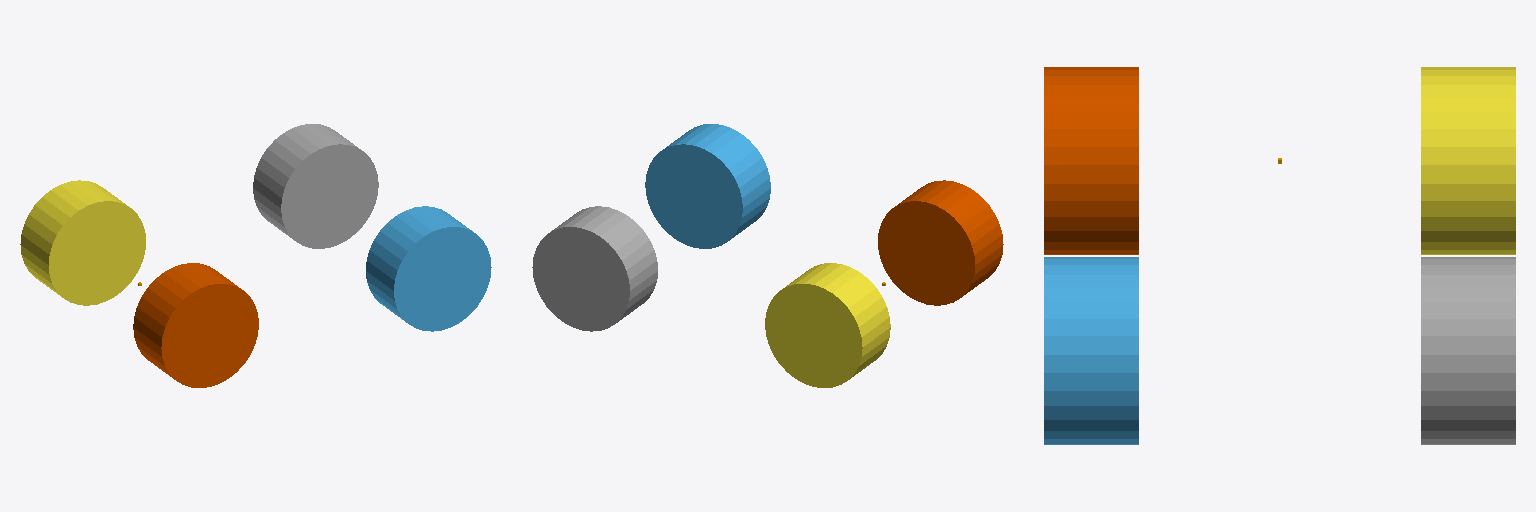
The robot description file, URDF, robot "car":
<?xml version="1.0" ?>
<!-- =================================================================================== -->
<!-- |    This document was autogenerated by xacro from car.xacro                      | -->
<!-- |    EDITING THIS FILE BY HAND IS NOT RECOMMENDED                                 | -->
<!-- =================================================================================== -->
<robot name="car">
  <gazebo reference="chassis">
    <material>CarMaterial</material>
  </gazebo>
  <link name="base_link">
    <parent link="odom"/>
    <visual>
      <geometry>
        <box size="0.01 0.01 0.01"/>
      </geometry>
      <material name="chassis_mat"/>
    </visual>
  </link>
  <joint name="base_link_to_chassis" type="fixed">
    <origin rpy="0 0 0" xyz="0.476 0 0.3"/>
    <parent link="base_link"/>
    <child link="chassis"/>
  </joint>
  <link name="chassis">
    <collision>
      <origin rpy="0 0 0" xyz="0 0 0.27"/>
      <geometry>
        <box size="1.56 0.4 0.39999999999999997"/>
      </geometry>
    </collision>
    <visual>
      <origin rpy="0 0 0" xyz="0 0 0"/>
      <geometry>
        <mesh filename="file://[local-path]/Desktop/II_last_semester/Laba_2/meshes/car.dae"/>
      </geometry>
    </visual>
    <inertial>
      <mass value="0.001"/>
      <inertia ixx="0.001" ixy="0" ixz="0" iyy="0.001" iyz="0" izz="0.001"/>
    </inertial>
  </link>
  <joint name="front_left_steering_knuckle_joint" type="revolute">
    <origin rpy="0 0 1.5707963267948966" xyz="0.47600000000000003 0.4 -0.3"/>
    <parent link="chassis"/>
    <child link="front_left_steering_knuckle_link"/>
    <axis xyz="0 0 1"/>
    <limit effort="1.25" lower="-0.5" upper="0.5" velocity="2.0"/>
  </joint>
  <transmission name="front_left_wheel_steering">
    <type>transmission_interface/SimpleTransmission</type>
    <joint name="front_left_steering_knuckle_joint">
      <hardwareInterface>PositionJointInterface</hardwareInterface>
    </joint>
    <actuator name="front_left_wheel_steering_act">
      <hardwareInterface>hardware_interface/PositionJointInterface</hardwareInterface>
    </actuator>
  </transmission>
  <link name="front_left_steering_knuckle_link">
    <visual>
      <origin rpy="0 0 0" xyz="0 0 0"/>
      <geometry>
        <sphere radius="0.01"/>
      </geometry>
      <material name="white"/>
    </visual>
    <inertial>
      <mass value="0.001"/>
      <inertia ixx="0.001" ixy="0" ixz="0" iyy="0.001" iyz="0" izz="0.001"/>
    </inertial>
  </link>
  <joint name="front_right_steering_knuckle_joint" type="revolute">
    <origin rpy="0 0 1.5707963267948966" xyz="0.47600000000000003 -0.4 -0.3"/>
    <parent link="chassis"/>
    <child link="front_right_steering_knuckle_link"/>
    <axis xyz="0 0 1"/>
    <limit effort="1.25" lower="-0.5" upper="0.5" velocity="2.0"/>
  </joint>
  <transmission name="front_right_wheel_steering">
    <type>transmission_interface/SimpleTransmission</type>
    <joint name="front_right_steering_knuckle_joint">
      <hardwareInterface>PositionJointInterface</hardwareInterface>
    </joint>
    <actuator name="front_right_wheel_steering_act">
      <hardwareInterface>hardware_interface/PositionJointInterface</hardwareInterface>
    </actuator>
  </transmission>
  <link name="front_right_steering_knuckle_link">
    <visual>
      <origin rpy="0 0 0" xyz="0 0 0"/>
      <geometry>
        <sphere radius="0.01"/>
      </geometry>
      <material name="white"/>
    </visual>
    <inertial>
      <mass value="0.001"/>
      <inertia ixx="0.001" ixy="0" ixz="0" iyy="0.001" iyz="0" izz="0.001"/>
    </inertial>
  </link>
  <joint name="rear_left_steering_knuckle_joint" type="fixed">
    <origin rpy="0 0 1.5707963267948966" xyz="-0.47600000000000003 0.4 -0.3"/>
    <parent link="chassis"/>
    <child link="rear_left_steering_knuckle_link"/>
  </joint>
  <link name="rear_left_steering_knuckle_link">
    <visual>
      <origin rpy="0 0 0" xyz="0 0 0"/>
      <geometry>
        <sphere radius="0.01"/>
      </geometry>
      <material name="white"/>
    </visual>
    <inertial>
      <mass value="0.001"/>
      <inertia ixx="0.001" ixy="0" ixz="0" iyy="0.001" iyz="0" izz="0.001"/>
    </inertial>
  </link>
  <joint name="rear_right_steering_knuckle_joint" type="fixed">
    <origin rpy="0 0 1.5707963267948966" xyz="-0.47600000000000003 -0.4 -0.3"/>
    <parent link="chassis"/>
    <child link="rear_right_steering_knuckle_link"/>
  </joint>
  <link name="rear_right_steering_knuckle_link">
    <visual>
      <origin rpy="0 0 0" xyz="0 0 0"/>
      <geometry>
        <sphere radius="0.01"/>
      </geometry>
      <material name="white"/>
    </visual>
    <inertial>
      <mass value="0.001"/>
      <inertia ixx="0.001" ixy="0" ixz="0" iyy="0.001" iyz="0" izz="0.001"/>
    </inertial>
  </link>
  <joint name="front_left_axel_joint" type="fixed">
    <origin rpy="0 0 0" xyz="0 0 0"/>
    <parent link="front_left_steering_knuckle_link"/>
    <child link="front_left_wheel_axel"/>
  </joint>
  <link name="front_left_wheel_axel">
    <visual>
      <origin rpy="0 0 0" xyz="0 0 0"/>
      <geometry>
        <sphere radius="0.01"/>
      </geometry>
      <material name="white"/>
    </visual>
    <inertial>
      <mass value="0.001"/>
      <inertia ixx="0.001" ixy="0" ixz="0" iyy="0.001" iyz="0" izz="0.001"/>
    </inertial>
  </link>
  <joint name="front_left_wheel_joint" type="continuous">
    <origin rpy="0 0 0" xyz="0 0 0"/>
    <parent link="front_left_wheel_axel"/>
    <child link="front_left_wheel_link"/>
    <axis xyz="1 0 0"/>
    <limit effort="100000.0" velocity="255.0"/>
  </joint>
  <transmission name="front_left_wheel_vel">
    <type>transmission_interface/SimpleTransmission</type>
    <joint name="front_left_wheel_joint">
      <hardwareInterface>VelocityJointInterface</hardwareInterface>
    </joint>
    <actuator name="front_left_wheel_vel_act">
      <hardwareInterface>hardware_interface/VelocityJointInterface</hardwareInterface>
    </actuator>
  </transmission>
  <link name="front_left_wheel_link">
    <collision>
      <origin rpy="0 1.5707963267948966 0" xyz="0 0 0"/>
      <geometry>
        <cylinder length="0.2" radius="0.2"/>
      </geometry>
    </collision>
    <visual>
      <origin rpy="0 1.5707963267948966 0" xyz="0 0 0"/>
      <geometry>
        <cylinder length="0.2" radius="0.2"/>
      </geometry>
    </visual>
    <inertial>
      <origin rpy="0 0 0" xyz="0 0 0"/>
      <mass value="2.0"/>
      <inertia ixx="0.04000000000000001" ixy="0" ixz="0" iyy="0.026666666666666672" iyz="0" izz="0.026666666666666672"/>
    </inertial>
  </link>
  <joint name="front_right_axel_joint" type="fixed">
    <origin rpy="0 0 0" xyz="0 0 0"/>
    <parent link="front_right_steering_knuckle_link"/>
    <child link="front_right_wheel_axel"/>
  </joint>
  <link name="front_right_wheel_axel">
    <visual>
      <origin rpy="0 0 0" xyz="0 0 0"/>
      <geometry>
        <sphere radius="0.01"/>
      </geometry>
      <material name="white"/>
    </visual>
    <inertial>
      <mass value="0.001"/>
      <inertia ixx="0.001" ixy="0" ixz="0" iyy="0.001" iyz="0" izz="0.001"/>
    </inertial>
  </link>
  <joint name="front_right_wheel_joint" type="continuous">
    <origin rpy="0 0 0" xyz="0 0 0"/>
    <parent link="front_right_wheel_axel"/>
    <child link="front_right_wheel_link"/>
    <axis xyz="1 0 0"/>
    <limit effort="100000.0" velocity="255.0"/>
  </joint>
  <transmission name="front_right_wheel_vel">
    <type>transmission_interface/SimpleTransmission</type>
    <joint name="front_right_wheel_joint">
      <hardwareInterface>VelocityJointInterface</hardwareInterface>
    </joint>
    <actuator name="front_right_wheel_vel_act">
      <hardwareInterface>hardware_interface/VelocityJointInterface</hardwareInterface>
    </actuator>
  </transmission>
  <link name="front_right_wheel_link">
    <collision>
      <origin rpy="0 1.5707963267948966 0" xyz="0 0 0"/>
      <geometry>
        <cylinder length="0.2" radius="0.2"/>
      </geometry>
    </collision>
    <visual>
      <origin rpy="0 1.5707963267948966 0" xyz="0 0 0"/>
      <geometry>
        <cylinder length="0.2" radius="0.2"/>
      </geometry>
    </visual>
    <inertial>
      <origin rpy="0 0 0" xyz="0 0 0"/>
      <mass value="2.0"/>
      <inertia ixx="0.04000000000000001" ixy="0" ixz="0" iyy="0.026666666666666672" iyz="0" izz="0.026666666666666672"/>
    </inertial>
  </link>
  <joint name="rear_left_axel_joint" type="fixed">
    <origin rpy="0 0 0" xyz="0 0 0"/>
    <parent link="rear_left_steering_knuckle_link"/>
    <child link="rear_left_wheel_axel"/>
  </joint>
  <link name="rear_left_wheel_axel">
    <visual>
      <origin rpy="0 0 0" xyz="0 0 0"/>
      <geometry>
        <sphere radius="0.01"/>
      </geometry>
      <material name="white"/>
    </visual>
    <inertial>
      <mass value="0.001"/>
      <inertia ixx="0.001" ixy="0" ixz="0" iyy="0.001" iyz="0" izz="0.001"/>
    </inertial>
  </link>
  <joint name="rear_left_wheel_joint" type="continuous">
    <origin rpy="0 0 0" xyz="0 0 0"/>
    <parent link="rear_left_wheel_axel"/>
    <child link="rear_left_wheel_link"/>
    <axis xyz="1 0 0"/>
    <limit effort="100000.0" velocity="255.0"/>
  </joint>
  <link name="rear_left_wheel_link">
    <collision>
      <origin rpy="0 1.5707963267948966 0" xyz="0 0 0"/>
      <geometry>
        <cylinder length="0.2" radius="0.2"/>
      </geometry>
    </collision>
    <visual>
      <origin rpy="0 1.5707963267948966 0" xyz="0 0 0"/>
      <geometry>
        <cylinder length="0.2" radius="0.2"/>
      </geometry>
    </visual>
    <inertial>
      <origin rpy="0 0 0" xyz="0 0 0"/>
      <mass value="2.0"/>
      <inertia ixx="0.04000000000000001" ixy="0" ixz="0" iyy="0.026666666666666672" iyz="0" izz="0.026666666666666672"/>
    </inertial>
  </link>
  <joint name="rear_right_axel_joint" type="fixed">
    <origin rpy="0 0 0" xyz="0 0 0"/>
    <parent link="rear_right_steering_knuckle_link"/>
    <child link="rear_right_wheel_axel"/>
  </joint>
  <link name="rear_right_wheel_axel">
    <visual>
      <origin rpy="0 0 0" xyz="0 0 0"/>
      <geometry>
        <sphere radius="0.01"/>
      </geometry>
      <material name="white"/>
    </visual>
    <inertial>
      <mass value="0.001"/>
      <inertia ixx="0.001" ixy="0" ixz="0" iyy="0.001" iyz="0" izz="0.001"/>
    </inertial>
  </link>
  <joint name="rear_right_wheel_joint" type="continuous">
    <origin rpy="0 0 0" xyz="0 0 0"/>
    <parent link="rear_right_wheel_axel"/>
    <child link="rear_right_wheel_link"/>
    <axis xyz="1 0 0"/>
    <limit effort="100000.0" velocity="255.0"/>
  </joint>
  <link name="rear_right_wheel_link">
    <collision>
      <origin rpy="0 1.5707963267948966 0" xyz="0 0 0"/>
      <geometry>
        <cylinder length="0.2" radius="0.2"/>
      </geometry>
    </collision>
    <visual>
      <origin rpy="0 1.5707963267948966 0" xyz="0 0 0"/>
      <geometry>
        <cylinder length="0.2" radius="0.2"/>
      </geometry>
    </visual>
    <inertial>
      <origin rpy="0 0 0" xyz="0 0 0"/>
      <mass value="2.0"/>
      <inertia ixx="0.04000000000000001" ixy="0" ixz="0" iyy="0.026666666666666672" iyz="0" izz="0.026666666666666672"/>
    </inertial>
  </link>
  <gazebo>
    <plugin filename="libgazebo_ros_control.so" name="gazebo_ros_control"/>
  </gazebo>
  <joint name="hokuyo_joint" type="fixed">
    <axis xyz="0 0 0"/>
    <origin rpy="0 0 0" xyz="0.574 0 0.72"/>
    <parent link="base_link"/>
    <child link="hokuyo"/>
  </joint>
  <!-- Hokuyo Laser -->
  <link name="hokuyo">
    <collision>
      <origin rpy="0 0 0" xyz="0 0 0"/>
      <geometry>
        <box size="0.1 0.1 0.1"/>
      </geometry>
    </collision>
    <visual>
      <origin rpy="0 0 0" xyz="0 0 0"/>
      <geometry>
        <mesh filename="file://[local-path]/Desktop/II_last_semester/Laba_2/meshes/hokuyo.dae"/>
      </geometry>
    </visual>
    <inertial>
      <mass value="1e-5"/>
      <origin rpy="0 0 0" xyz="0 0 0"/>
      <inertia ixx="1e-6" ixy="0" ixz="0" iyy="1e-6" iyz="0" izz="1e-6"/>
    </inertial>
  </link>
  <!-- hokuyo -->
  <gazebo reference="hokuyo">
    <sensor name="head_hokuyo_sensor" type="gpu_ray">
      <pose>0 0 0 0 0 0</pose>
      <visualize>false</visualize>
      <update_rate>40</update_rate>
      <ray>
        <scan>
          <horizontal>
            <samples>1080</samples>
            <resolution>1</resolution>
            <min_angle>-2,35619</min_angle>
            <max_angle>2,35619</max_angle>
          </horizontal>
        </scan>
        <range>
          <min>0.1</min>
          <max>30.0</max>
          <resolution>0.005</resolution>
        </range>
        <noise>
          <type>gaussian</type>
          <!-- Noise parameters based on published spec for Hokuyo laser
               achieving "+-30mm" accuracy at range < 10m.  A mean of 0.0m and
               stddev of 0.01m will put 99.7% of samples within 0.03m of the true
               reading. -->
          <mean>0.0</mean>
          <stddev>0.01</stddev>
        </noise>
      </ray>
      <plugin filename="libgazebo_ros_gpu_laser.so" name="gazebo_ros_head_hokuyo_controller">
        <topicName>/scan</topicName>
        <frameName>hokuyo</frameName>
      </plugin>
    </sensor>
  </gazebo>
  <gazebo>
    <plugin filename="libgazebo_ros_p3d.so" name="publisher_fake_odom">
      <updateRate>100.0</updateRate>
      <bodyName>base_link</bodyName>
      <topicName>odom_truth</topicName>
      <gaussianNoise>0.0</gaussianNoise>
      <frameName>map</frameName>
    </plugin>
  </gazebo>
</robot>

--- Render facts (derived) ---
Views: 3 orthographic renders of the robot side by side, from view 1: azimuth 30°, elevation 25°; view 2: azimuth 150°, elevation 25°; view 3: azimuth 270°, elevation 25°.
Model car with 15 links and 14 joints (2 revolute, 4 continuous, 8 fixed), rooted at base_link, posed all joints at 0.
Visible links, largest first — view 1: front_left_wheel_link, rear_right_wheel_link, front_right_wheel_link, rear_left_wheel_link; view 2: front_right_wheel_link, rear_left_wheel_link, front_left_wheel_link, rear_right_wheel_link; view 3: front_left_wheel_link, front_right_wheel_link, rear_left_wheel_link, rear_right_wheel_link.
Link boxes in pixels (x1,y1,x2,y2): front_left_wheel_link: (253, 124, 378, 248); rear_right_wheel_link: (133, 263, 258, 387); front_right_wheel_link: (366, 206, 491, 331); rear_left_wheel_link: (20, 180, 145, 305); front_right_wheel_link: (645, 124, 770, 248); rear_left_wheel_link: (765, 263, 890, 387); front_left_wheel_link: (532, 206, 657, 331); rear_right_wheel_link: (878, 180, 1003, 305); front_left_wheel_link: (1421, 257, 1515, 444); front_right_wheel_link: (1044, 257, 1138, 444); rear_left_wheel_link: (1421, 67, 1515, 254); rear_right_wheel_link: (1044, 67, 1138, 254).
Size in the robot's own frame: 1.35 by 1 by 0.4 metres.
Geometry: only primitive shapes (box / cylinder / sphere) drawn; not drawn: 2 mesh visuals (reference in a form the renderer does not follow).